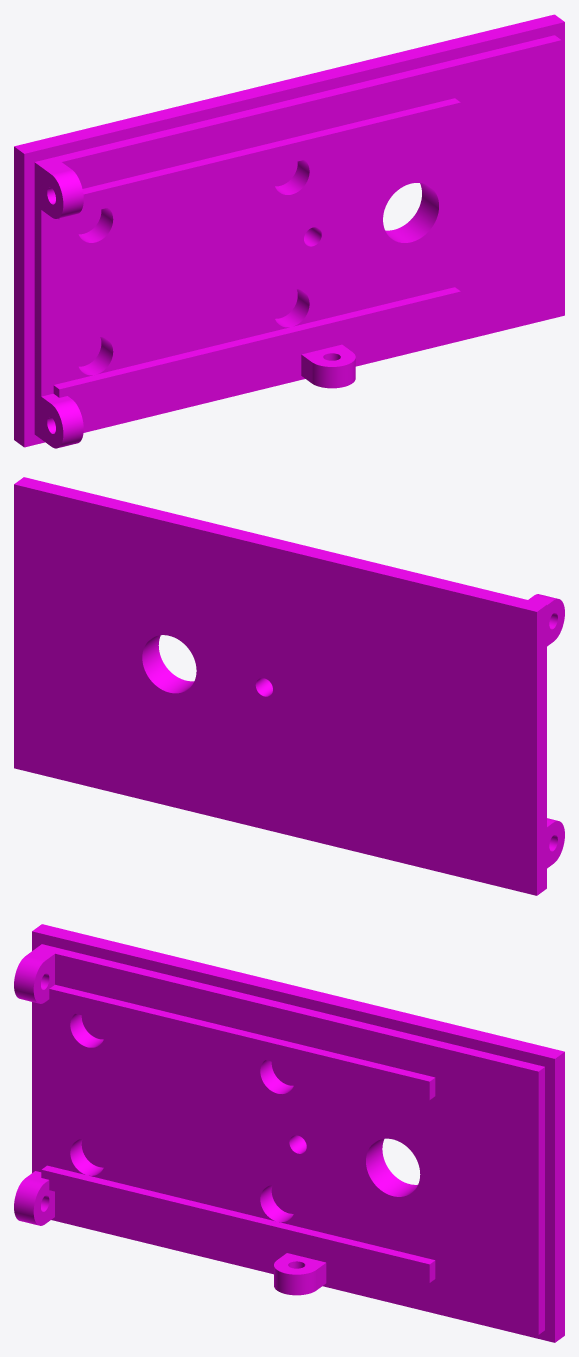
File: _2025_Lunabotics_Hopper_Latch_MotorMount_Face.obj
3 views of the same model, one above another, from view 1: azimuth 30°, elevation 25°; view 2: azimuth 150°, elevation 25°; view 3: azimuth 330°, elevation 25° (orthographic). The views are drawn at different scales.
Parts seen in each view (by area): view 1: mesh1630, mesh1666, mesh1632, mesh1641, mesh1671, mesh1650, mesh1649, mesh1668, mesh1635, mesh1640, mesh1659, mesh1653 (+7 smaller); view 2: mesh1667, mesh1671, mesh1668, mesh1659, mesh1649; view 3: mesh1630, mesh1666, mesh1632, mesh1641, mesh1671, mesh1650, mesh1670, mesh1635, mesh1640, mesh1651, mesh1659, mesh1653 (+9 smaller).
Boxes of the visible parts, <box> form: mesh1630: <box>41,40,561,428</box>; mesh1666: <box>24,22,564,447</box>; mesh1632: <box>59,291,460,404</box>; mesh1641: <box>59,102,460,219</box>; mesh1671: <box>14,14,564,153</box>; mesh1650: <box>35,35,560,174</box>; mesh1649: <box>34,162,63,448</box>; mesh1668: <box>14,146,24,446</box>; mesh1635: <box>54,287,460,389</box>; mesh1640: <box>82,98,460,194</box>; mesh1659: <box>385,183,438,242</box>; mesh1653: <box>311,358,355,388</box>; mesh1667: <box>14,484,536,895</box>; mesh1671: <box>14,477,546,611</box>; mesh1668: <box>537,605,546,895</box>; mesh1659: <box>142,635,194,693</box>; mesh1649: <box>547,599,564,868</box>; mesh1630: <box>35,953,538,1334</box>; mesh1666: <box>32,931,554,1342</box>; mesh1632: <box>41,1169,429,1282</box>; mesh1641: <box>41,989,429,1099</box>; mesh1671: <box>32,924,564,1058</box>; mesh1650: <box>25,944,544,1071</box>; mesh1670: <box>555,1052,564,1342</box>; mesh1635: <box>42,1165,434,1264</box>; mesh1640: <box>49,984,434,1081</box>; mesh1651: <box>538,1067,544,1334</box>; mesh1659: <box>366,1139,417,1196</box>; mesh1653: <box>274,1266,316,1295</box>.
Size of the model in its own units: 0.1346 by 0.0698 by 0.0169.
